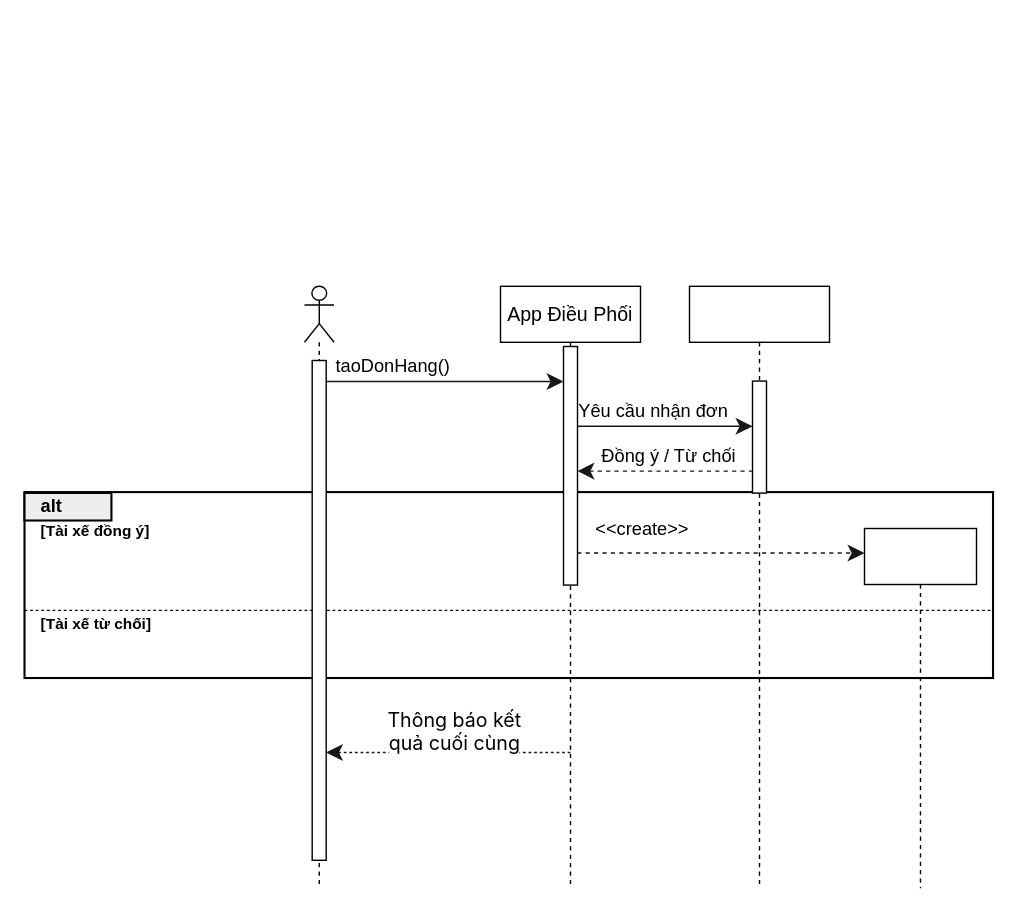
Some shapes in this 1021 by 913 pixel diagram are drawn without their labels. Here are the shapes that lost their labels. From the top down, the box of each, then its label:
(688, 285, 830, 888): Điện thoại Tài xế
(863, 527, 976, 888): Chuyến Đi
